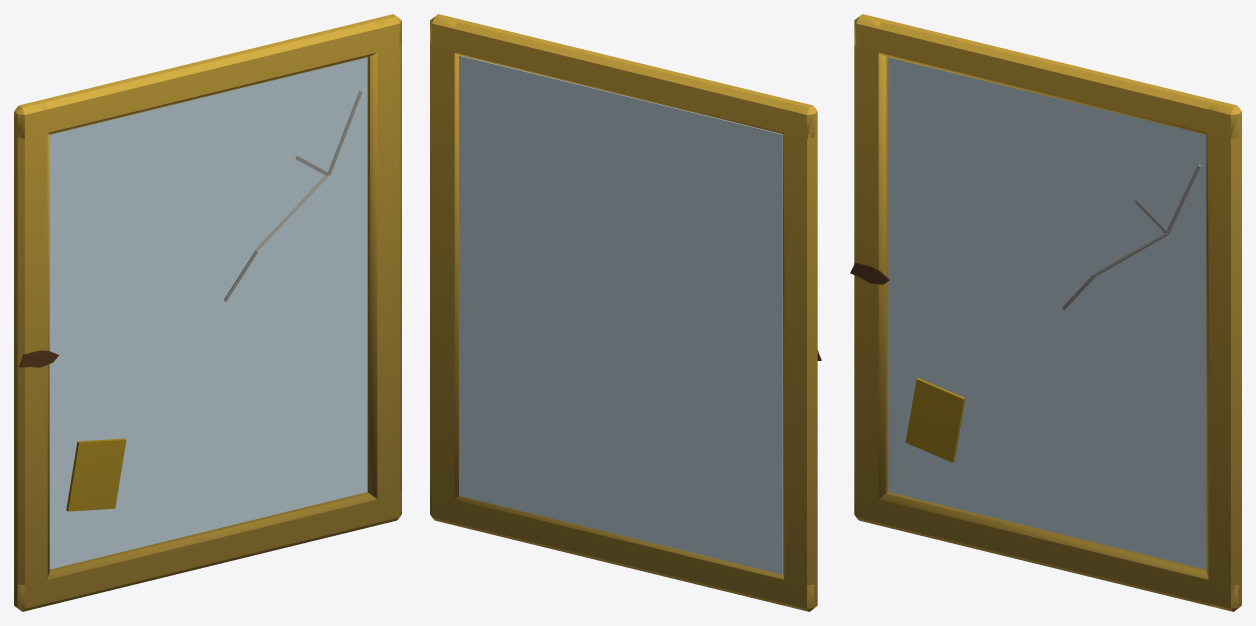
Rendered from 85_miroir_mural.fbx.
The picture shows the model from 3 angles, left to right: view 1: azimuth 30°, elevation 25°; view 2: azimuth 150°, elevation 25°; view 3: azimuth 330°, elevation 25°; orthographic projection.
Visible parts, largest first — view 1: Miroir, Cadre; view 2: Miroir, Cadre; view 3: Miroir, Cadre.
Boxes of the visible parts, bbox=[...] form: Miroir: bbox=[49, 57, 367, 569]; Cadre: bbox=[14, 14, 401, 611]; Miroir: bbox=[459, 55, 782, 574]; Cadre: bbox=[430, 14, 821, 611]; Miroir: bbox=[888, 57, 1206, 569]; Cadre: bbox=[850, 14, 1241, 611].
Bounding box in the file's own units: 0.672 × 0.84 × 0.028.
1 material, 1 textured.
